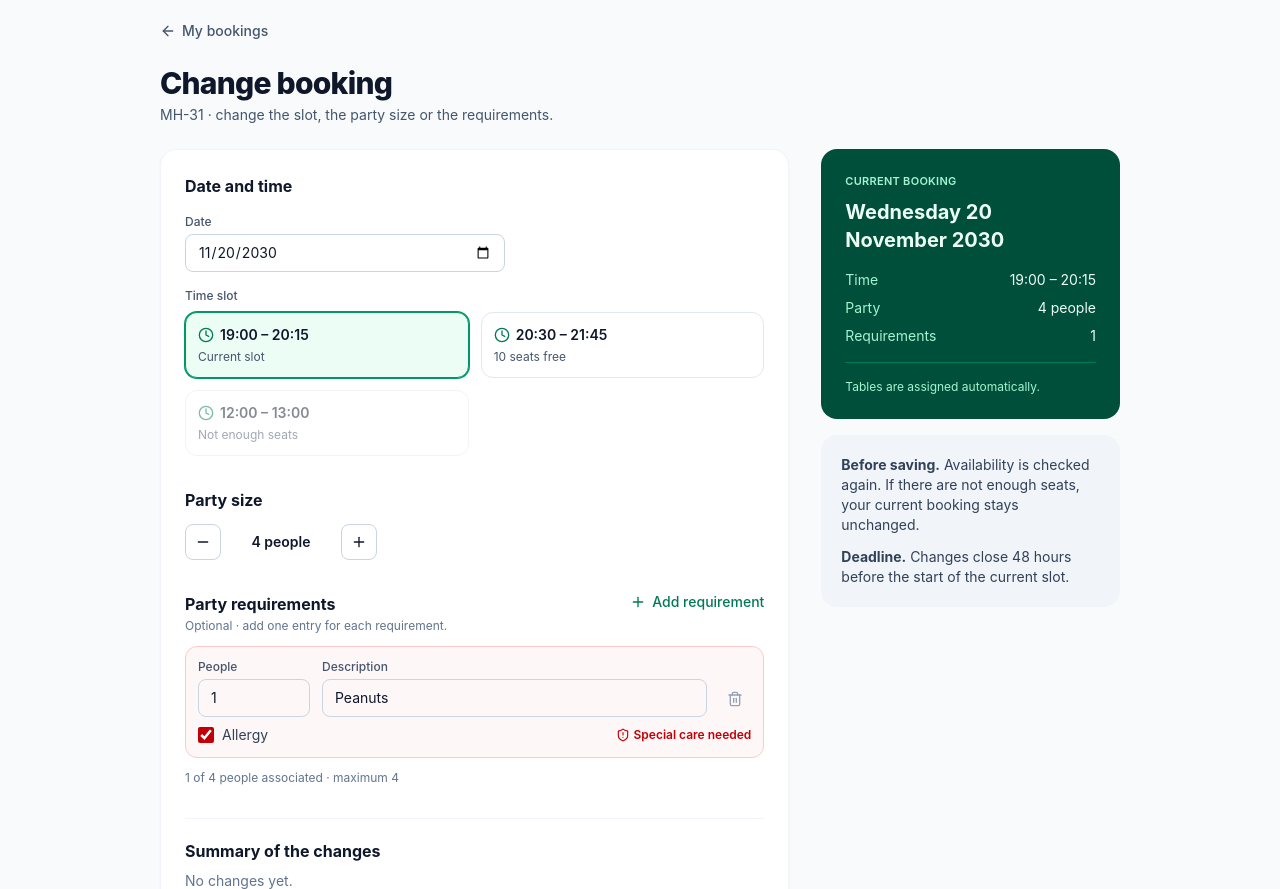
Test: ChangeBooking › saves a slot from the new date only after it has loaded and been selected
Expected: the button "20:30 – 21:45 10 seats free" is shown, x1=481 y1=312 x2=764 y2=378
Type "2030-11-21" into the date field labelled "Date" at [345, 253], box x1=185 y1=234 x2=505 y2=272
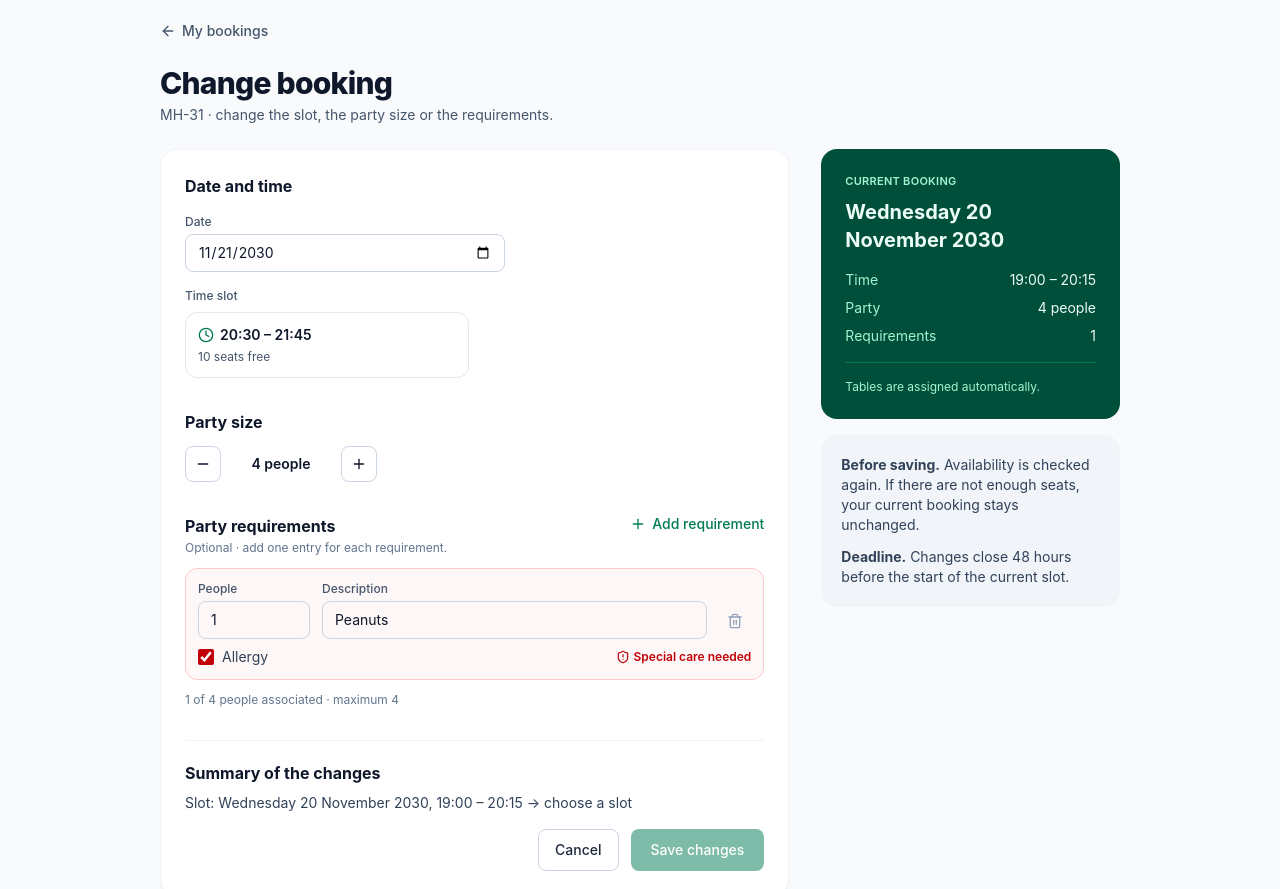
Expected: the button "Save changes" is disabled, x1=630 y1=829 x2=764 y2=871
Click the button "20:30 – 21:45 10 seats free" at [266, 334], box x1=185 y1=312 x2=469 y2=378
(page scrolled)
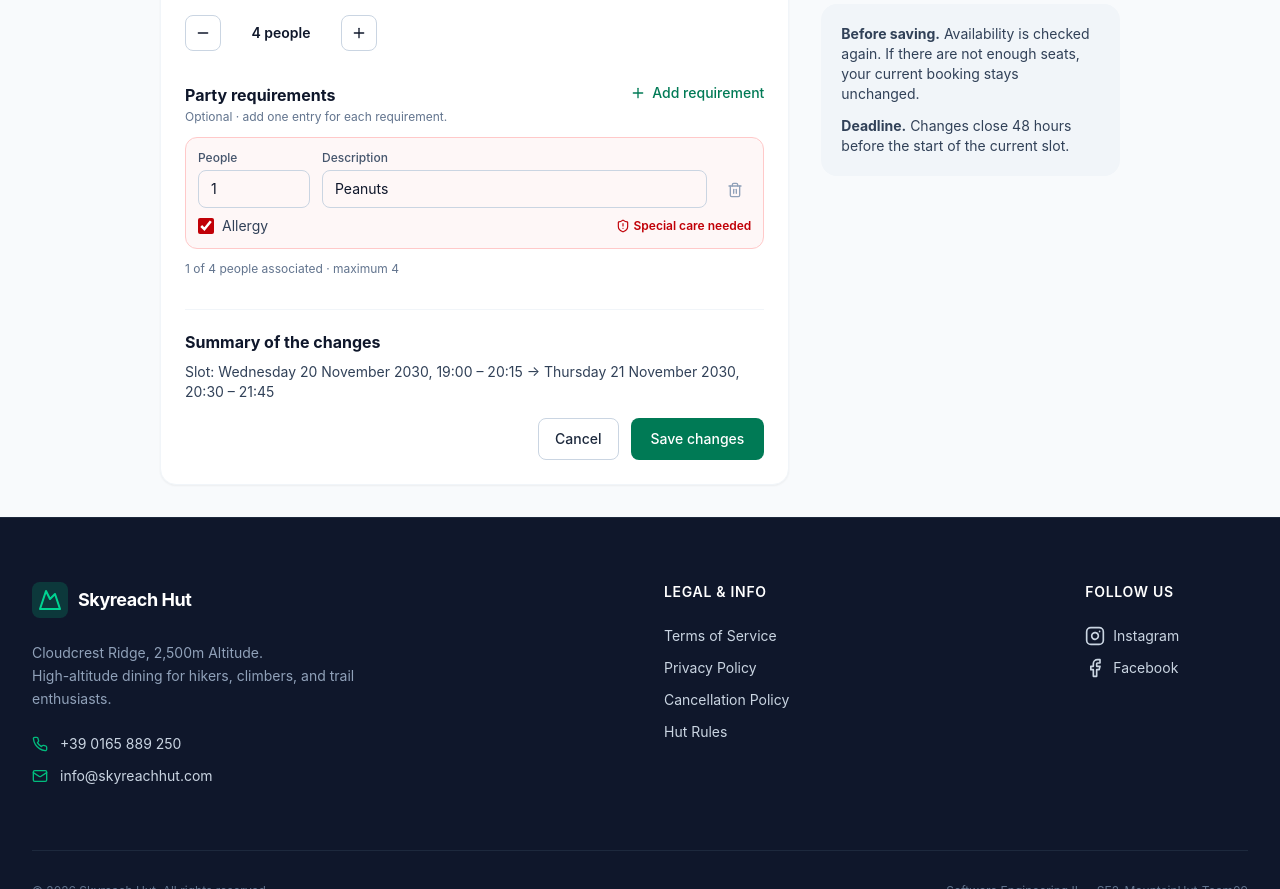
Click the button "Save changes" at [697, 439], box x1=630 y1=418 x2=764 y2=460
(page scrolled)
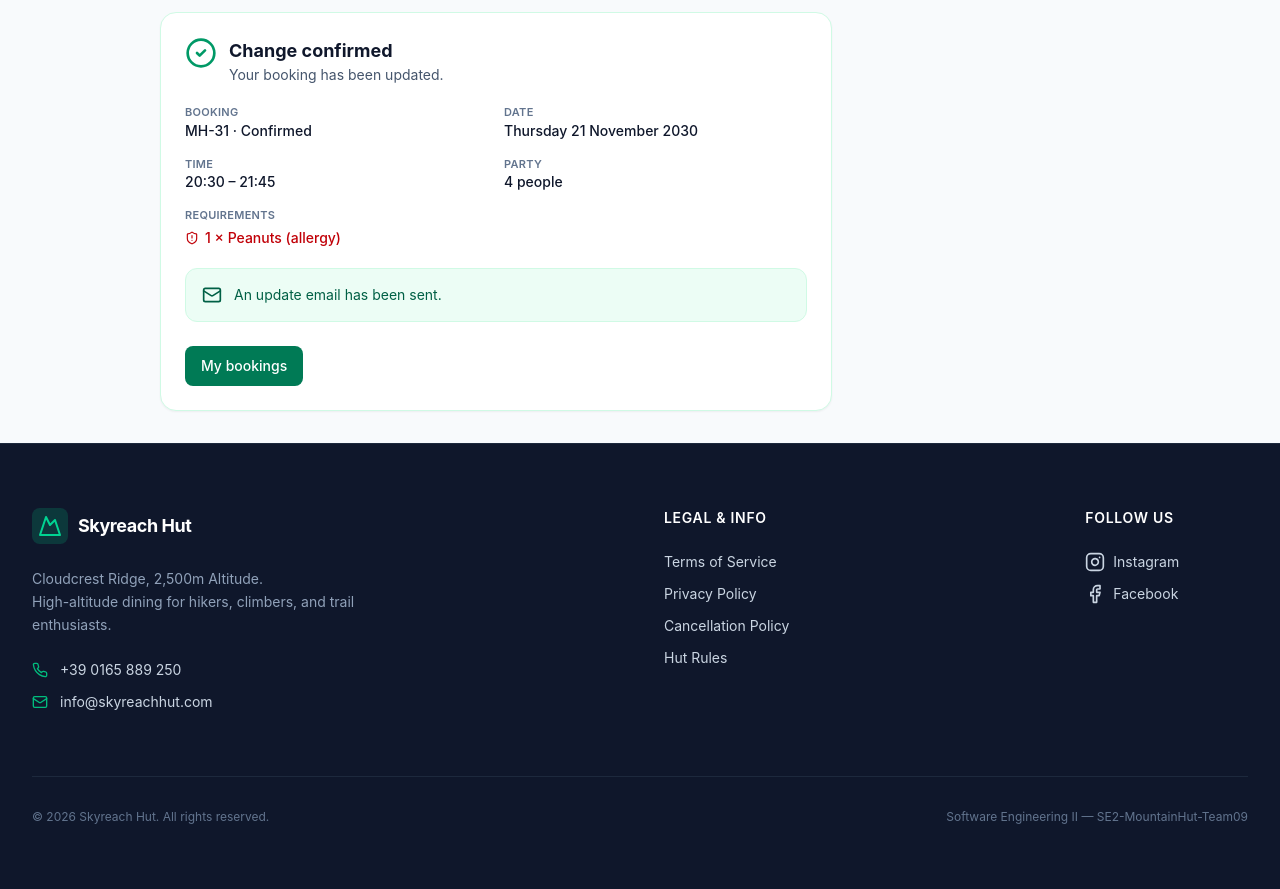
Expected: the heading "Change confirmed" is shown, x1=229 y1=40 x2=392 y2=61
